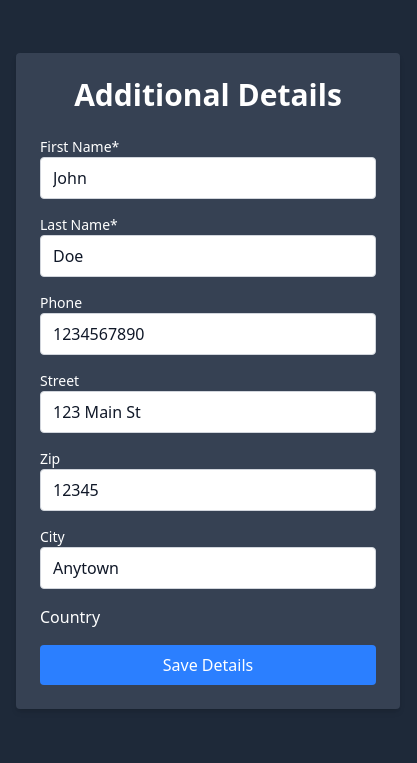
Test: AdditionalDetails Component › successfully submits form with valid data
Replace the text in the field labelled "First Name*" with "Jane" at (208,178), box x1=40 y1=157 x2=376 y2=199
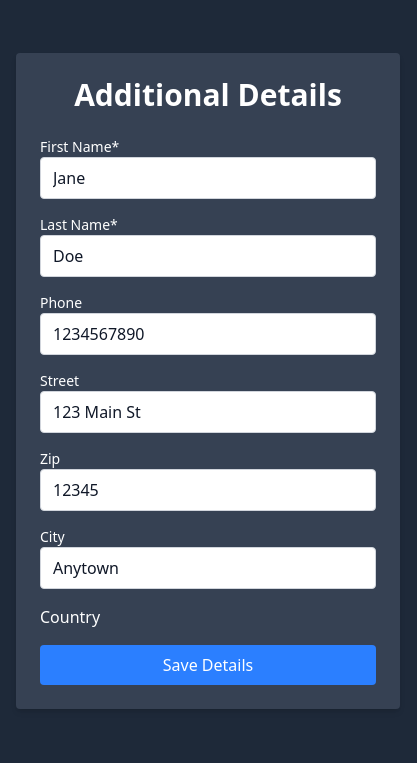
Replace the text in the field labelled "Last Name*" with "Smith" at (208,256), box x1=40 y1=235 x2=376 y2=277
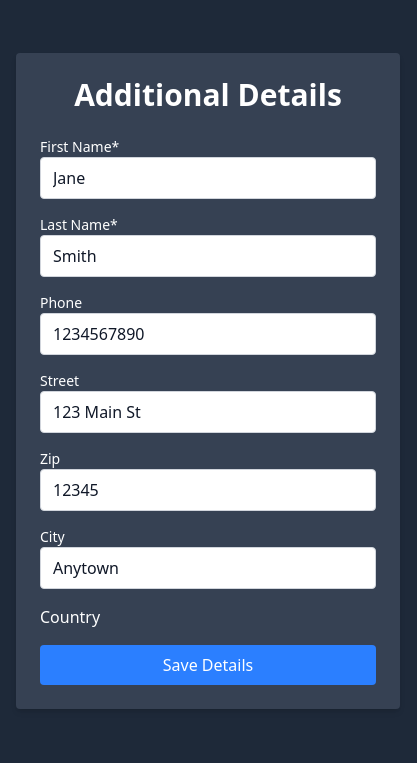
Note: Submit form
Click the button "Save Details" at (208,665), box x1=40 y1=645 x2=376 y2=685
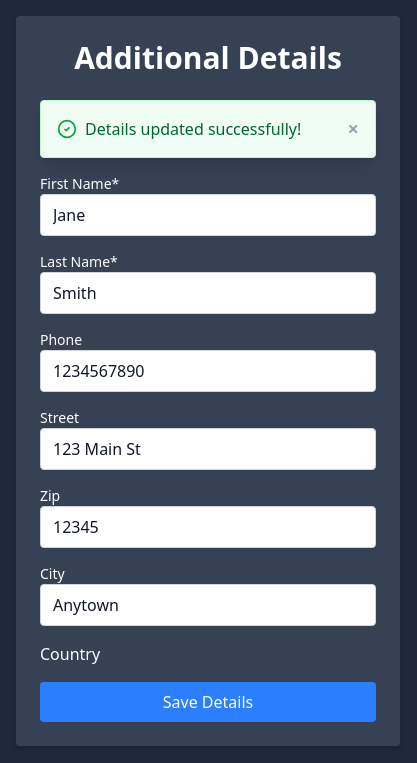
Now the text "Details updated successfully!" is shown, box x1=85 y1=118 x2=301 y2=140
